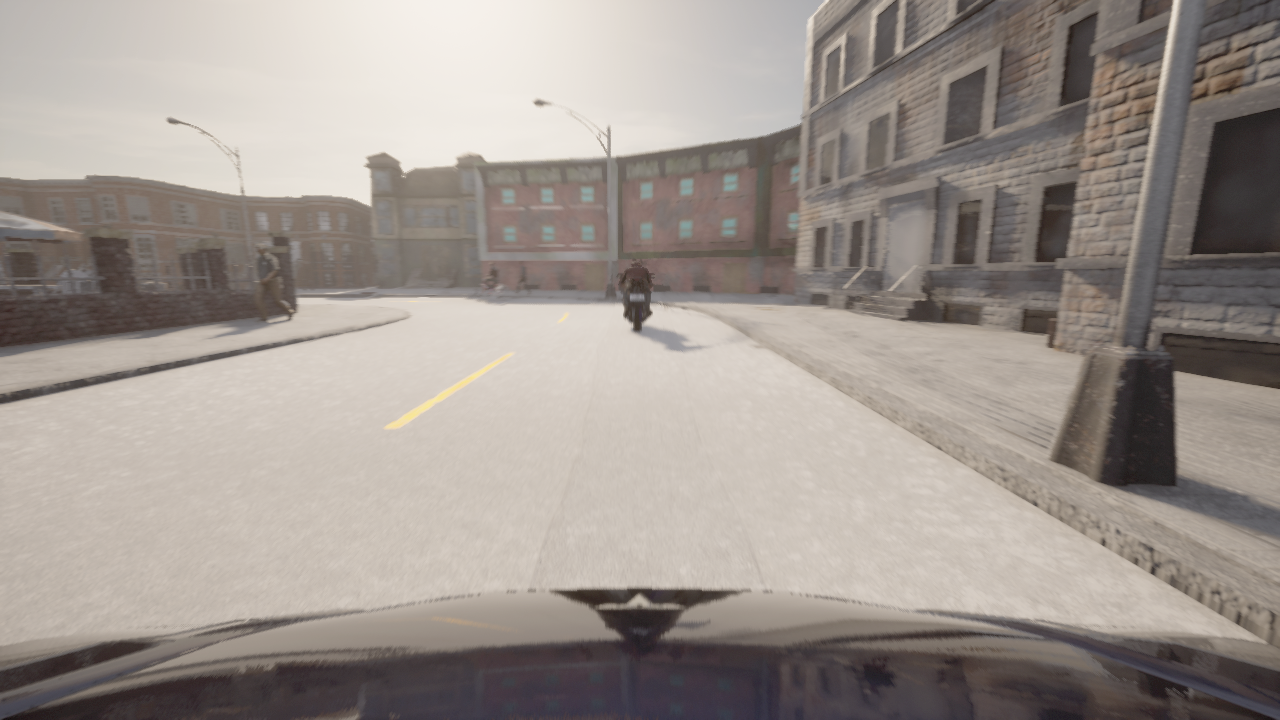cyclist: (0, 588, 1279, 719), (618, 274, 654, 332), (477, 278, 508, 300)
pedestrian: (255, 242, 294, 321), (514, 260, 531, 294), (633, 260, 635, 261)
